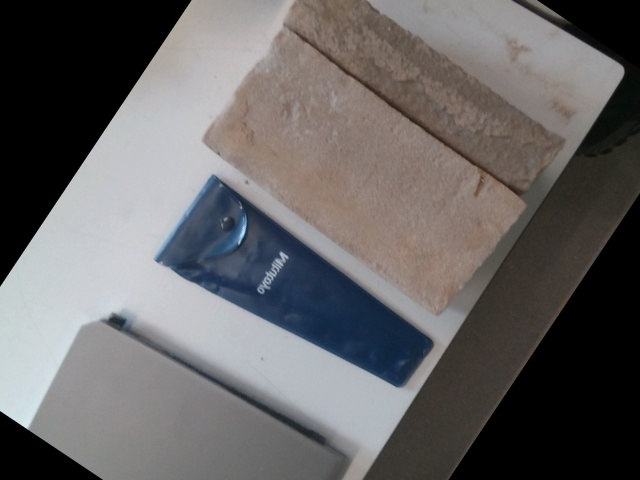brick: (207, 35, 515, 313)
